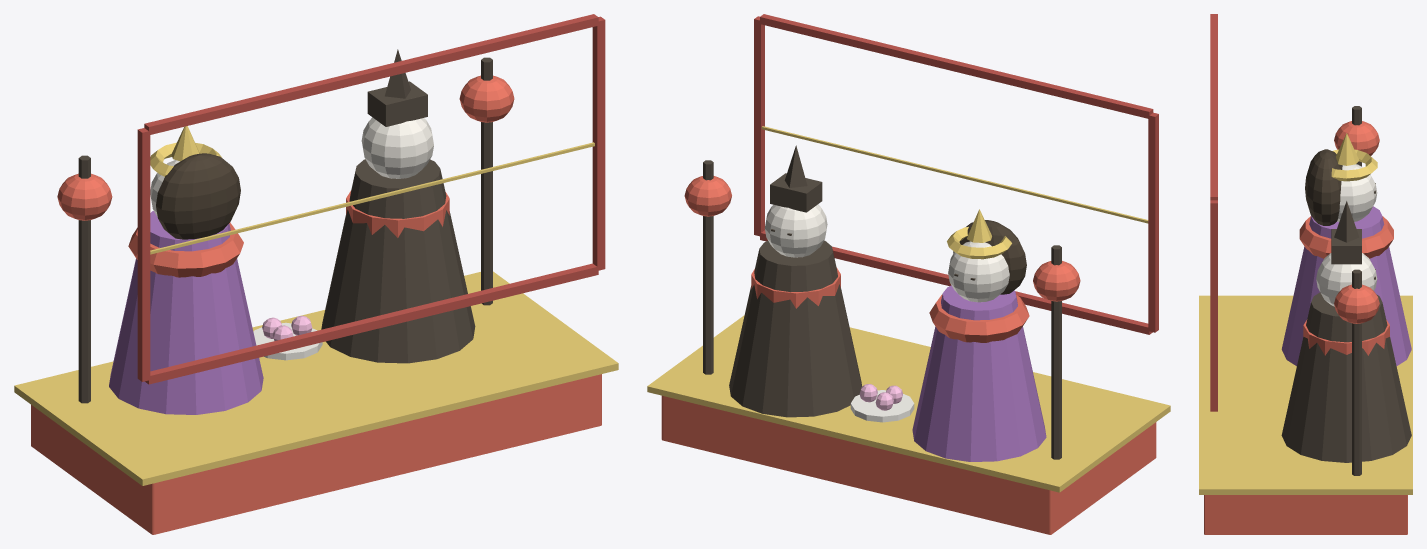
Rendered from hina_dolls.glb.
The picture shows the model from 3 angles, left to right: view 1: azimuth 30°, elevation 25°; view 2: azimuth 150°, elevation 25°; view 3: azimuth 270°, elevation 25°; orthographic projection. The views are drawn at different scales.
Visible parts, largest first — view 1: hina_dolls; view 2: hina_dolls; view 3: hina_dolls.
Part boxes in pixels (x1,y1,x2,y2): hina_dolls: [14, 14, 618, 534]; hina_dolls: [647, 14, 1170, 534]; hina_dolls: [1199, 14, 1412, 534].
Bounding box in the file's own units: 0.9 × 0.7325 × 0.42.
